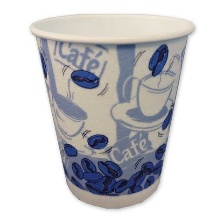paper_cup: (23, 7, 199, 213)
